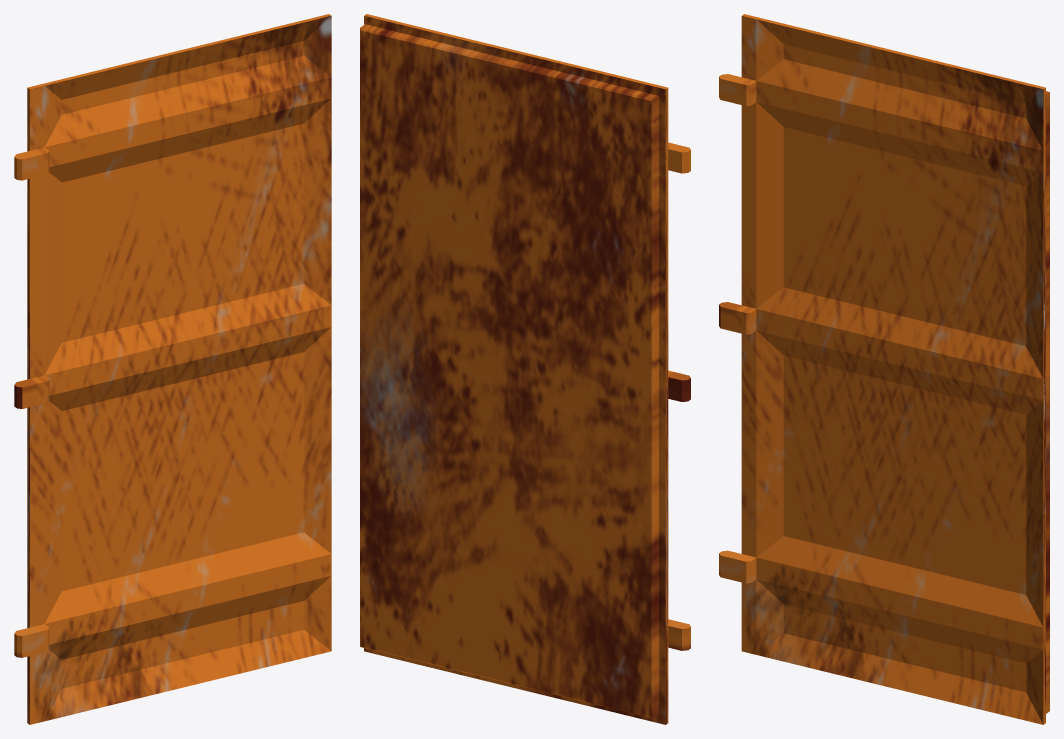
The model's file is ContainerDoorRight.fbx.
3 renders of one model, left to right at view 1: azimuth 30°, elevation 25°; view 2: azimuth 150°, elevation 25°; view 3: azimuth 330°, elevation 25°, orthographic.
Parts seen in each view (by area): view 1: Door; view 2: Door; view 3: Door.
Part boxes in pixels (x1=…): Door: x1=14, y1=14, x2=331, y2=724; Door: x1=360, y1=14, x2=690, y2=724; Door: x1=719, y1=14, x2=1049, y2=724.
Size of the model in its own units: 198 by 377 by 16.21.
1 material, 1 textured.
